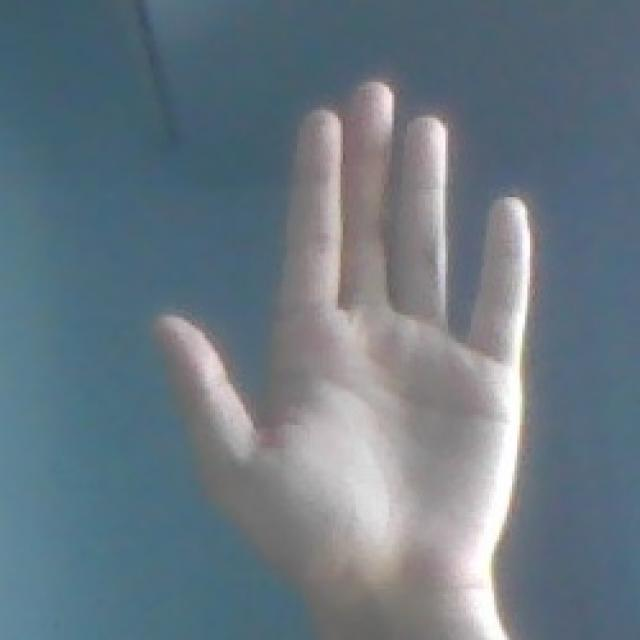Numeric-5: (160, 75, 534, 624)
